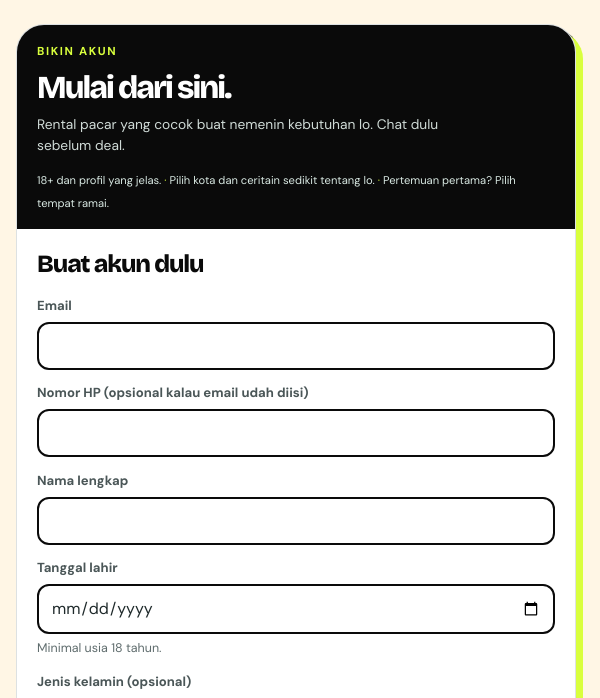
Test: RegisterPage validation › rejects a password shorter than 8 characters
The image size is (600, 698).
Type "user@example.com" into the field labelled "Email". click: (296, 346)
box: 37,322 -> 555,370
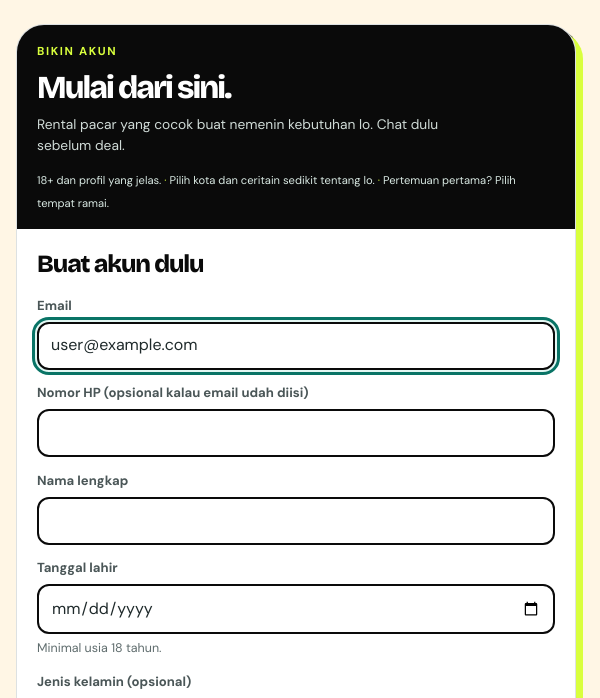
Type "Budi" into the field labelled "Nama lengkap". click: (296, 521)
box: 37,497 -> 555,545
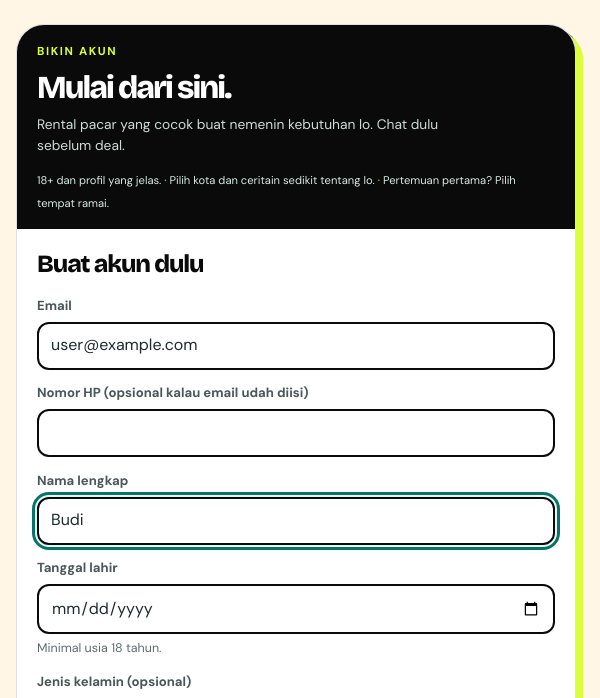
Type "2000-01-01" into the date field labelled "Tanggal lahir". click: (296, 609)
box: 37,584 -> 555,634
(page scrolled)
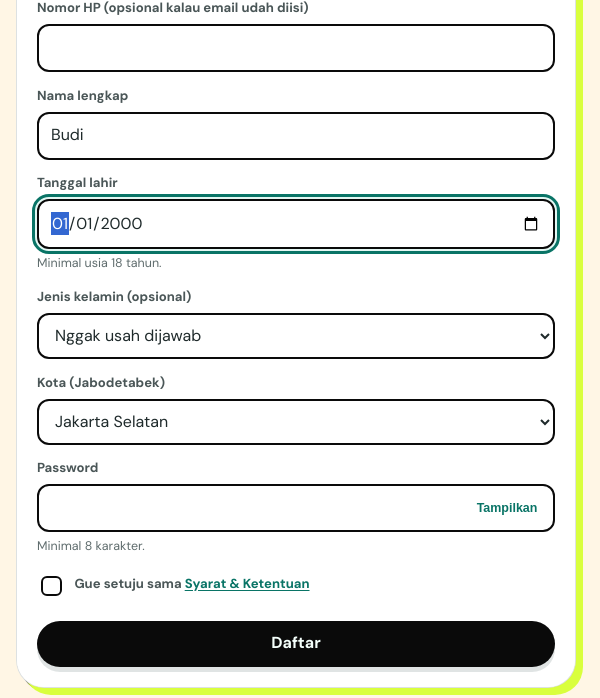
Type "short" into the password field labelled "Password". click: (296, 508)
box: 37,484 -> 555,532
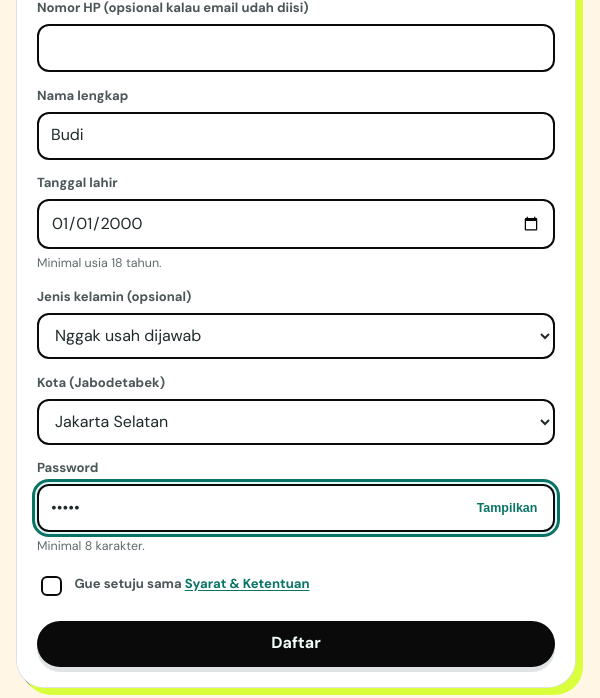
Click the checkbox labelled "Gue setuju sama Syarat & Ketentuan". click: (51, 586)
box: 41,576 -> 62,596
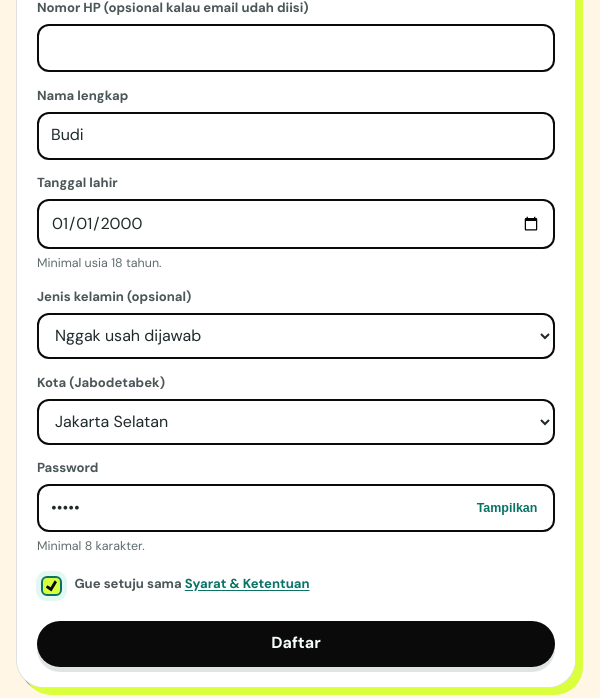
Click the button "Daftar". click: (296, 644)
box: 37,621 -> 555,666
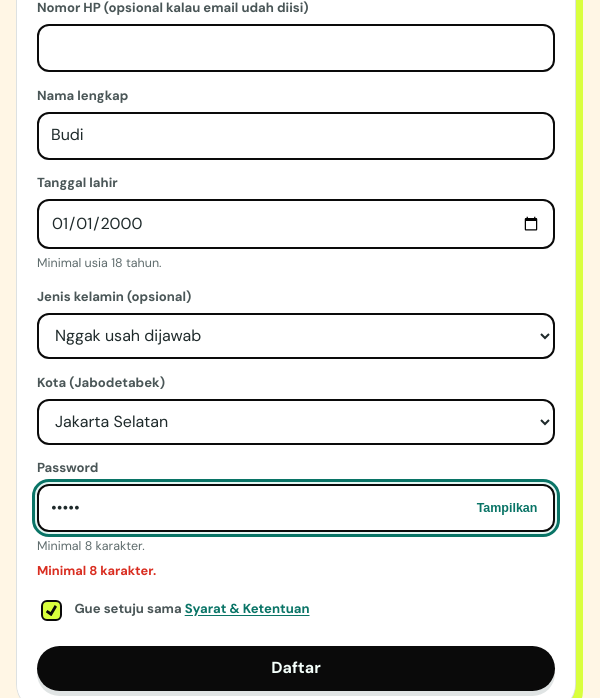
Expected: the message "Minimal 8 karakter." is shown, 37,562 -> 156,579
